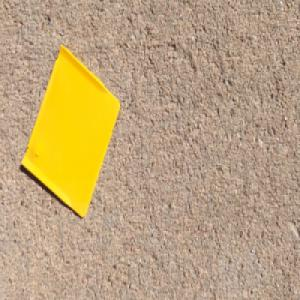PlasticPart: (19, 42, 120, 220)
